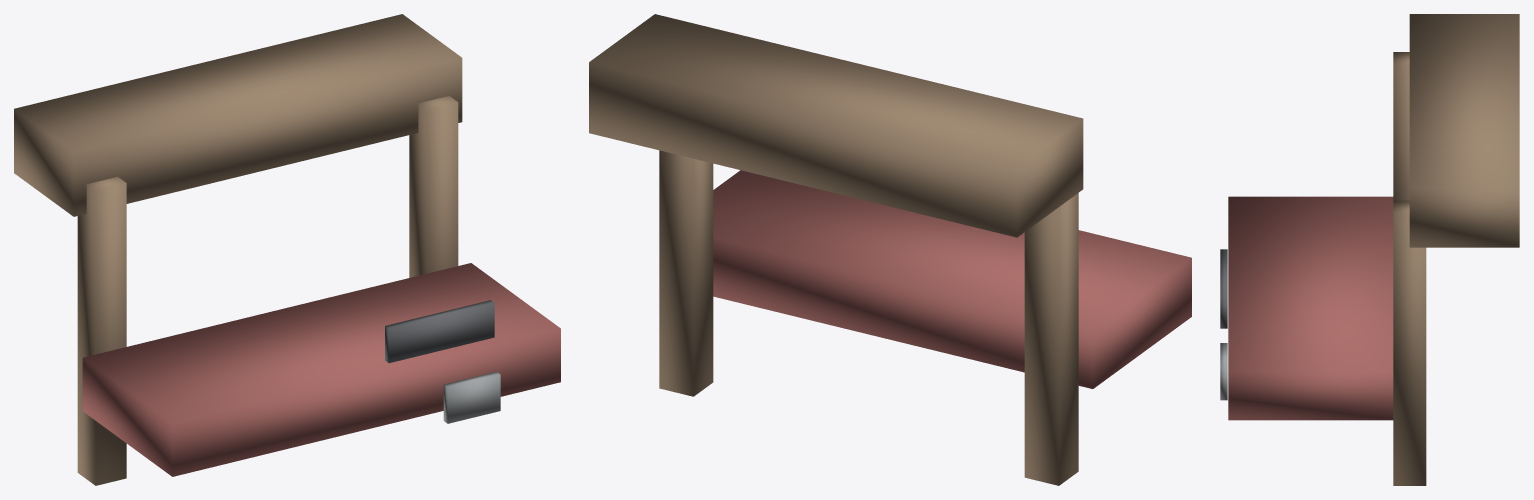
File: prayer_kneeler__weathered.glb
3 views of the same model, side by side, from view 1: azimuth 30°, elevation 25°; view 2: azimuth 150°, elevation 25°; view 3: azimuth 270°, elevation 25° (orthographic). The views are drawn at different scales.
Parts seen in each view (by area): view 1: world; view 2: world; view 3: world.
Part boxes in pixels (<box>): world: <box>14,14,560,485</box>; world: <box>589,14,1191,485</box>; world: <box>1220,14,1519,485</box>.
Size of the model in its own units: 0.75 by 0.6089 by 0.5446.
